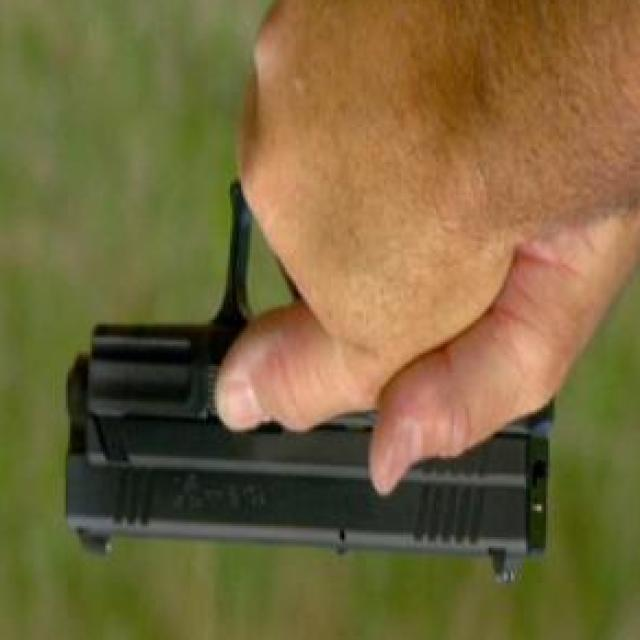pistol: (57, 127, 558, 605)
